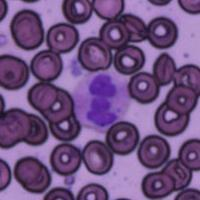N: (71, 70, 131, 132)
